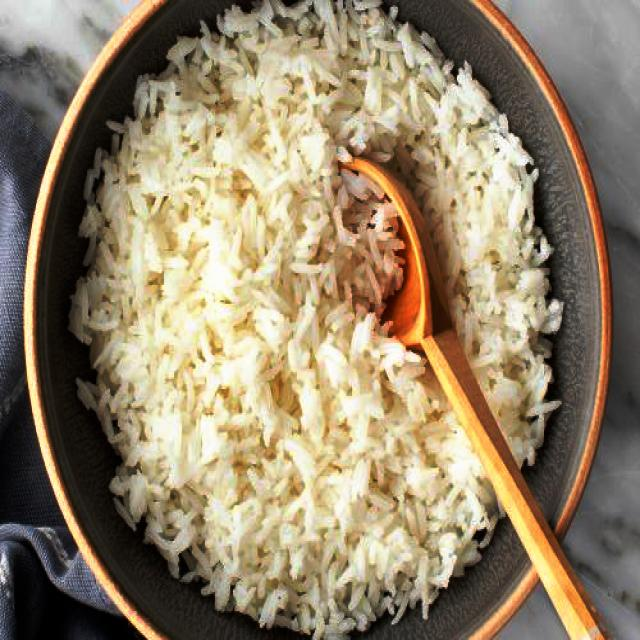rice: (75, 3, 563, 640)
